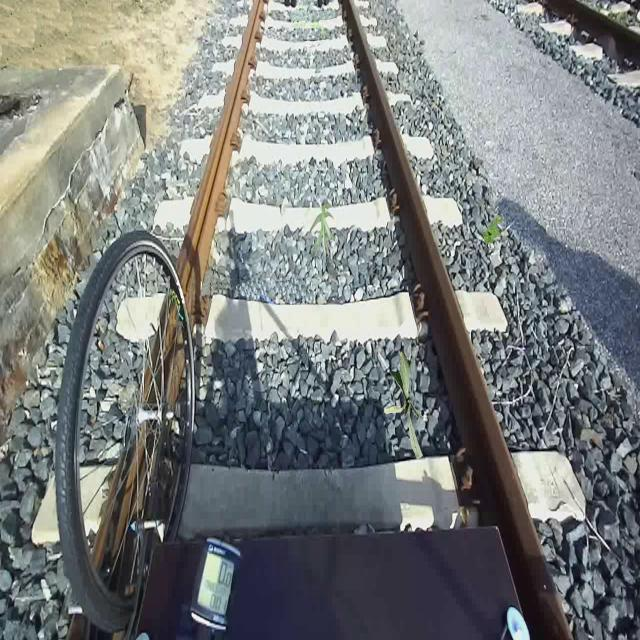Plant: (384, 351, 424, 461), (309, 203, 336, 260), (483, 215, 502, 248)
